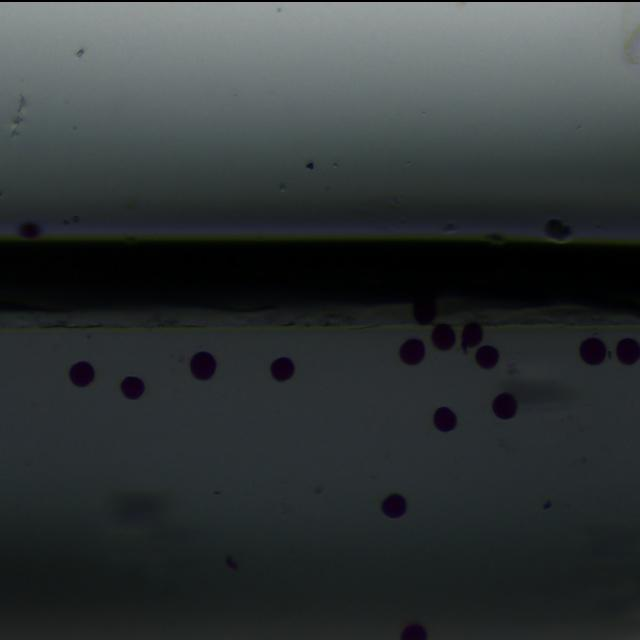viable: (190, 351, 215, 380), (580, 337, 605, 364), (492, 392, 516, 419), (399, 339, 424, 364), (69, 361, 94, 386), (616, 338, 639, 364), (461, 323, 482, 351), (431, 324, 454, 349), (382, 494, 405, 518), (433, 407, 456, 431), (413, 298, 435, 323), (271, 357, 293, 380), (121, 376, 144, 398), (476, 345, 498, 368), (400, 623, 427, 639), (19, 222, 40, 238)
